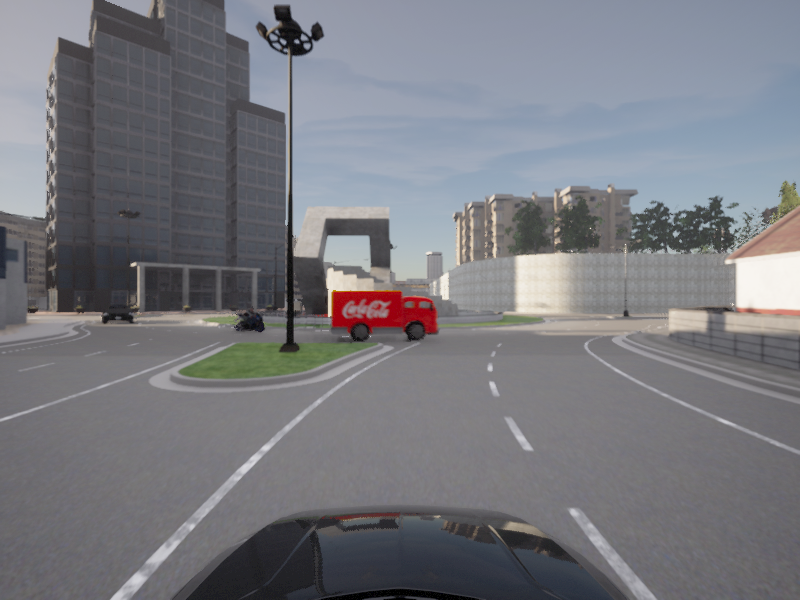vehicle: (330, 290, 440, 342), (230, 307, 269, 333), (101, 303, 134, 325)
